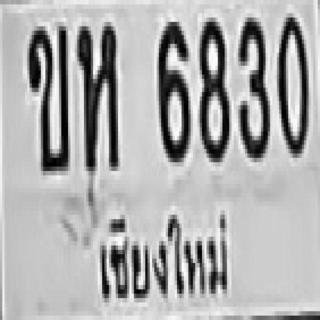A02: (26, 24, 67, 169)
A41: (75, 17, 116, 166)
N00: (277, 13, 306, 153)
N03: (236, 13, 268, 158)
N06: (157, 18, 188, 158)
N08: (198, 13, 227, 158)
P11: (94, 204, 235, 310)
